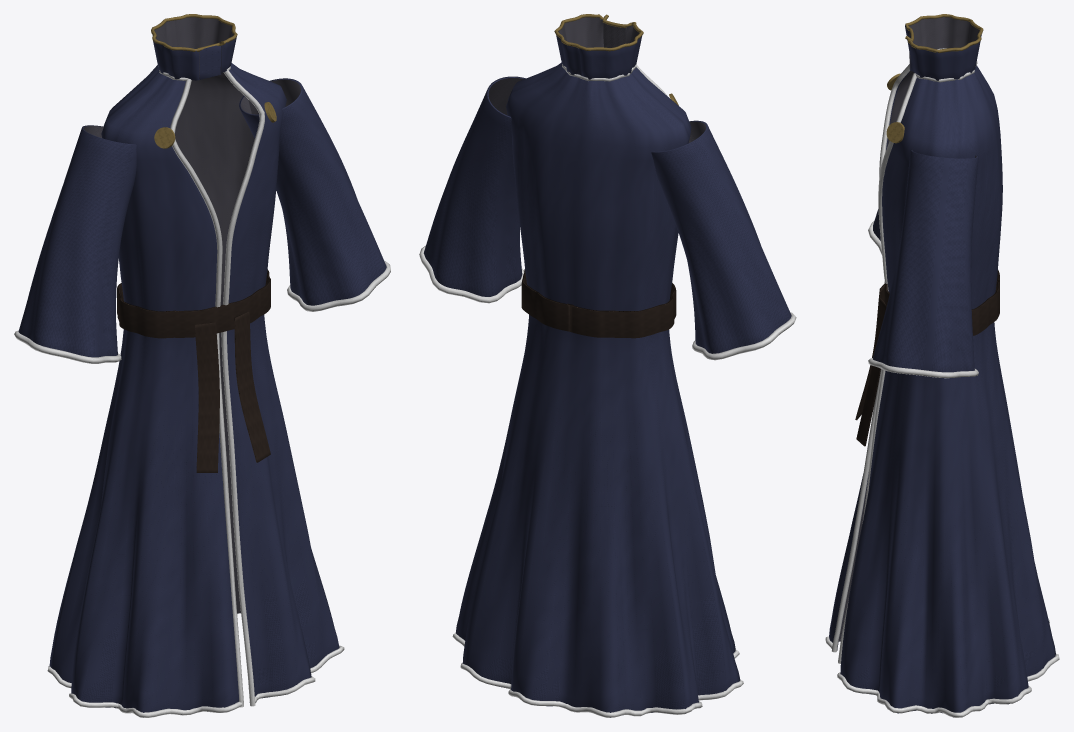
The picture shows the model from 3 angles, left to right: view 1: azimuth 30°, elevation 25°; view 2: azimuth 150°, elevation 25°; view 3: azimuth 270°, elevation 25°; orthographic projection.
Visible parts, largest first — view 1: woven wool, brushed wool lining, oiled strap leather, tanned leather, aged alloy edge; view 2: woven wool, tanned leather, oiled strap leather, brushed wool lining, aged alloy edge; view 3: woven wool, oiled strap leather, brushed wool lining, tanned leather, aged alloy edge.
Boxes of the visible parts, bbox=[...] form: woven wool: bbox=[18, 35, 386, 717]; brushed wool lining: bbox=[83, 17, 300, 613]; oiled strap leather: bbox=[14, 66, 390, 717]; tanned leather: bbox=[117, 269, 270, 472]; aged alloy edge: bbox=[151, 14, 276, 148]; woven wool: bbox=[423, 19, 791, 717]; tanned leather: bbox=[521, 269, 676, 338]; oiled strap leather: bbox=[419, 64, 796, 717]; brushed wool lining: bbox=[488, 17, 705, 142]; aged alloy edge: bbox=[554, 14, 678, 105]; woven wool: bbox=[829, 25, 1055, 717]; oiled strap leather: bbox=[825, 48, 1059, 717]; brushed wool lining: bbox=[838, 17, 979, 641]; tanned leather: bbox=[855, 270, 999, 446]; aged alloy edge: bbox=[886, 14, 983, 143].
Size of the model in its own units: 0.8668 by 1.49 by 0.5018.
Materials: 5 (5 with a texture image).
